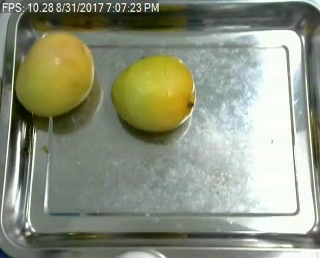Mango: (15, 32, 94, 115), (112, 56, 195, 133)
